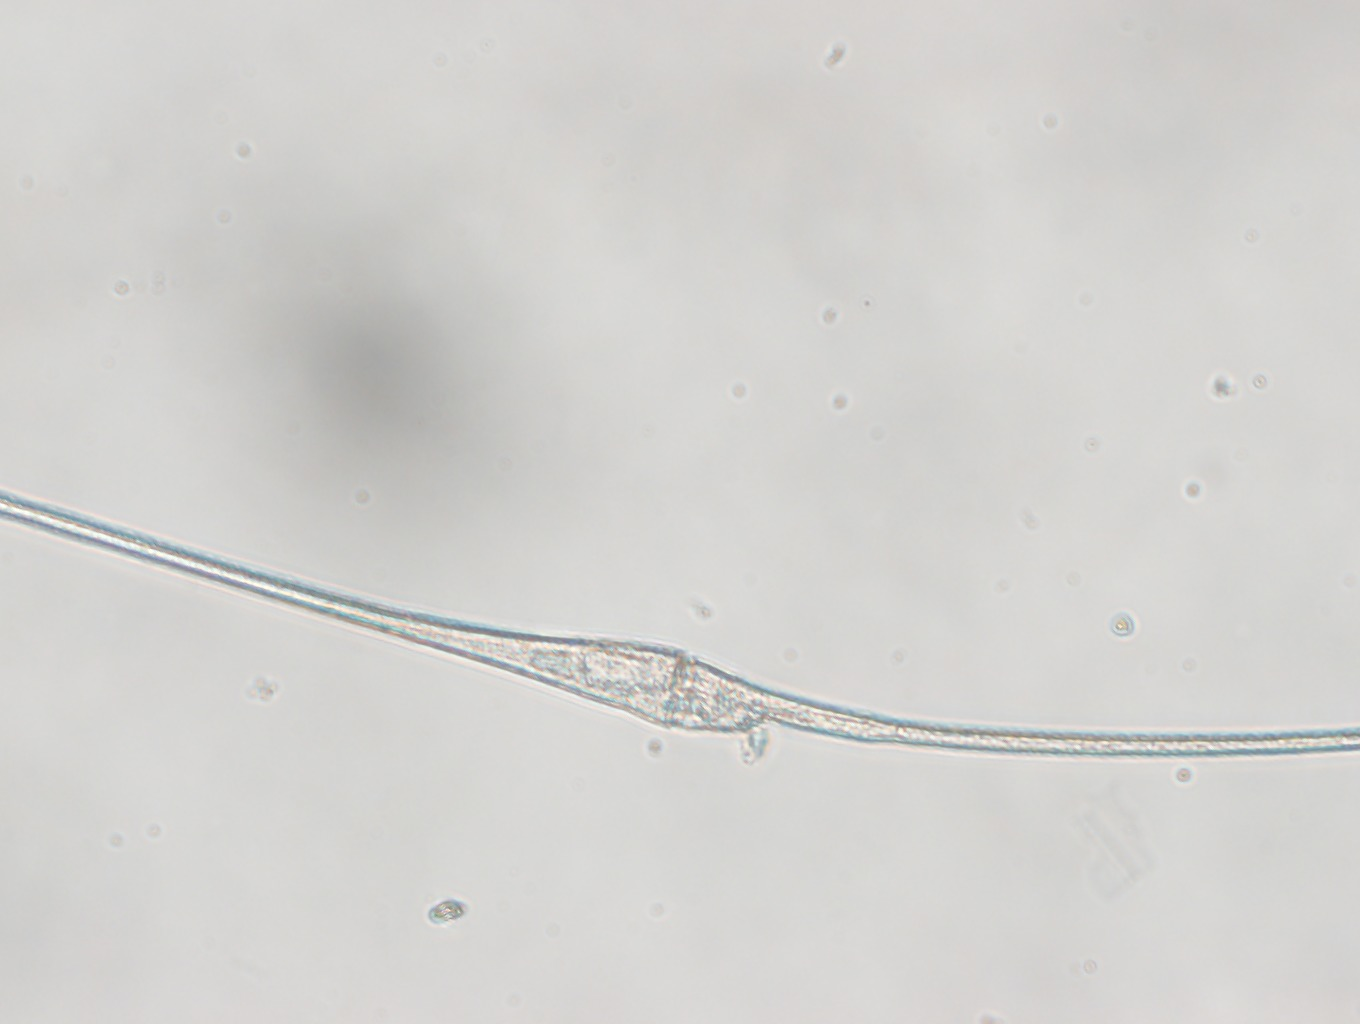ceratium fusus: (1, 488, 1360, 759)
